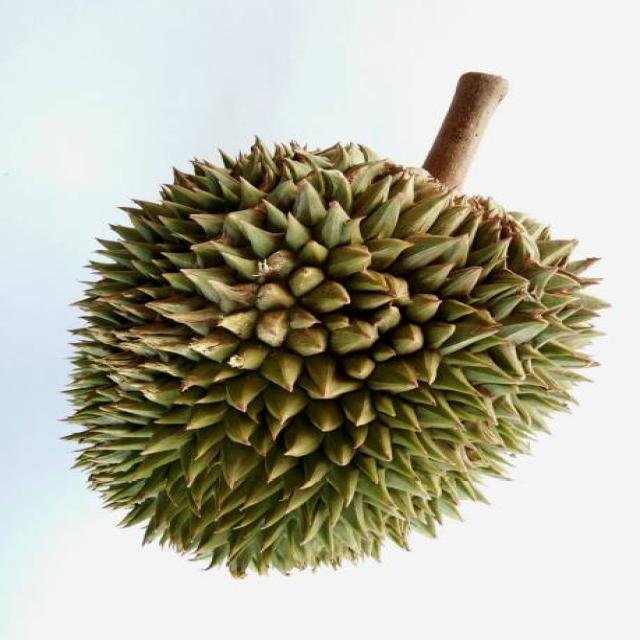mature: (68, 139, 605, 576)
